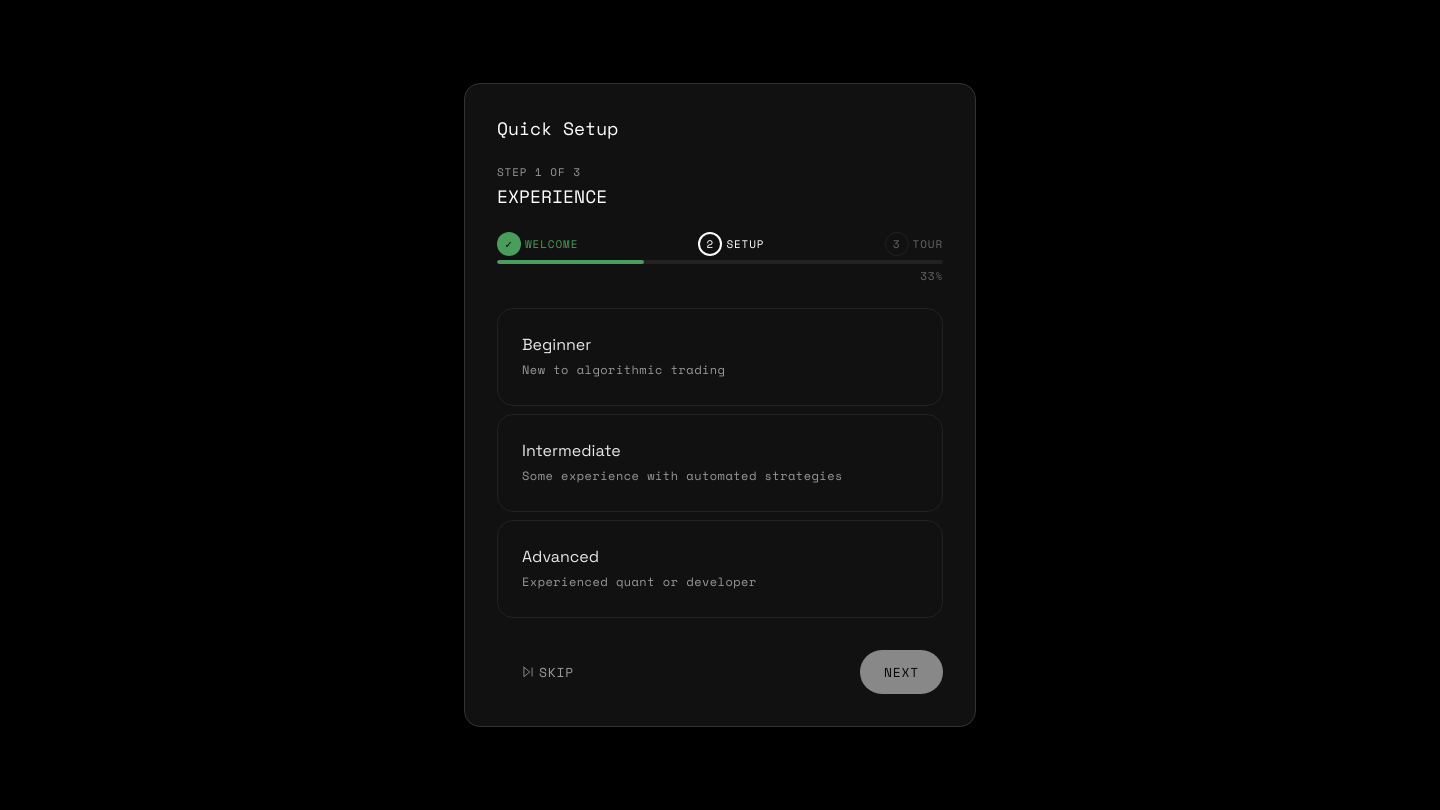
Test: SetupWizard › advances to risk profile step
This screenshot has width=1440, height=810.
Click the text "Beginner": (557, 344) [522,334,591,355]
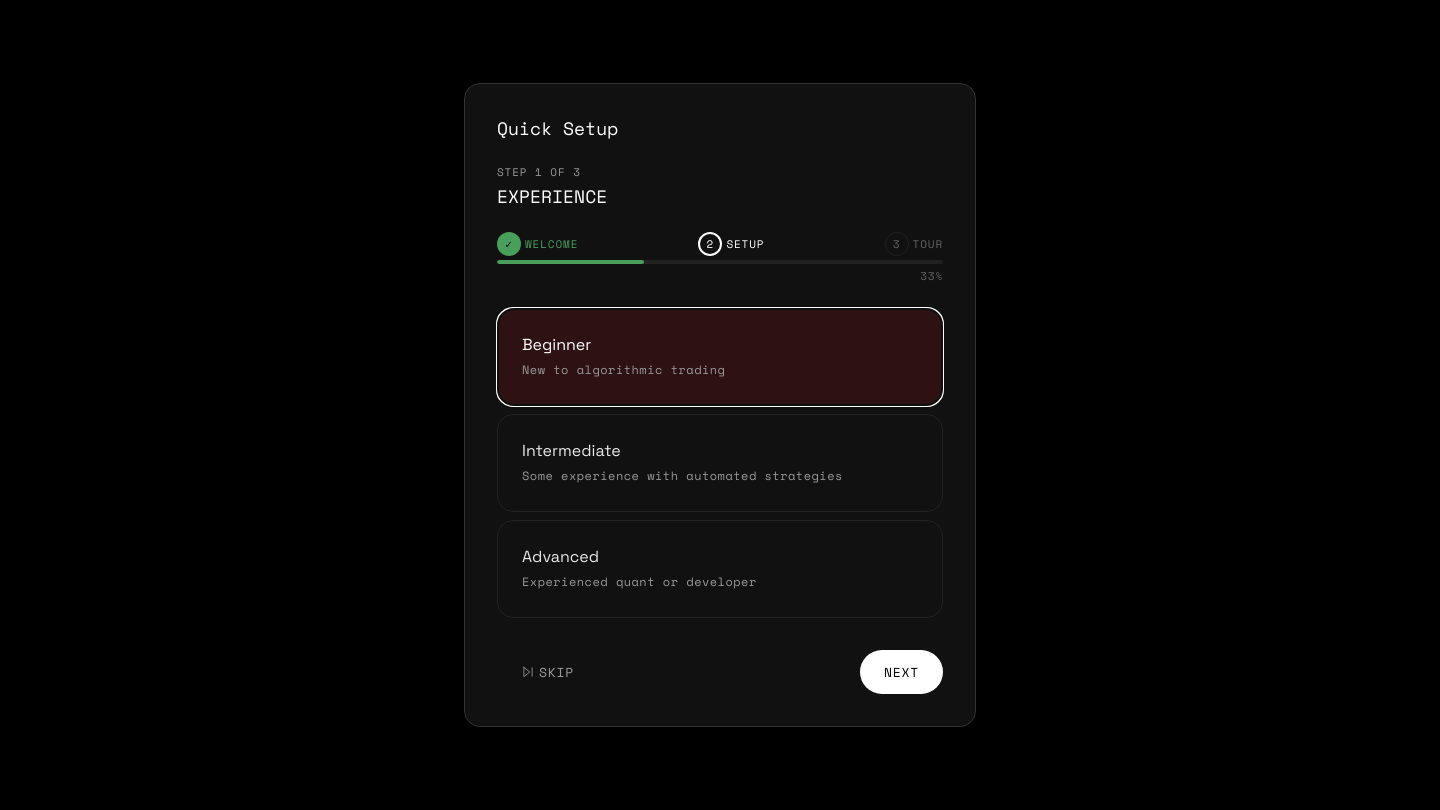
Click the button "NEXT": (902, 672) [860,650,943,694]
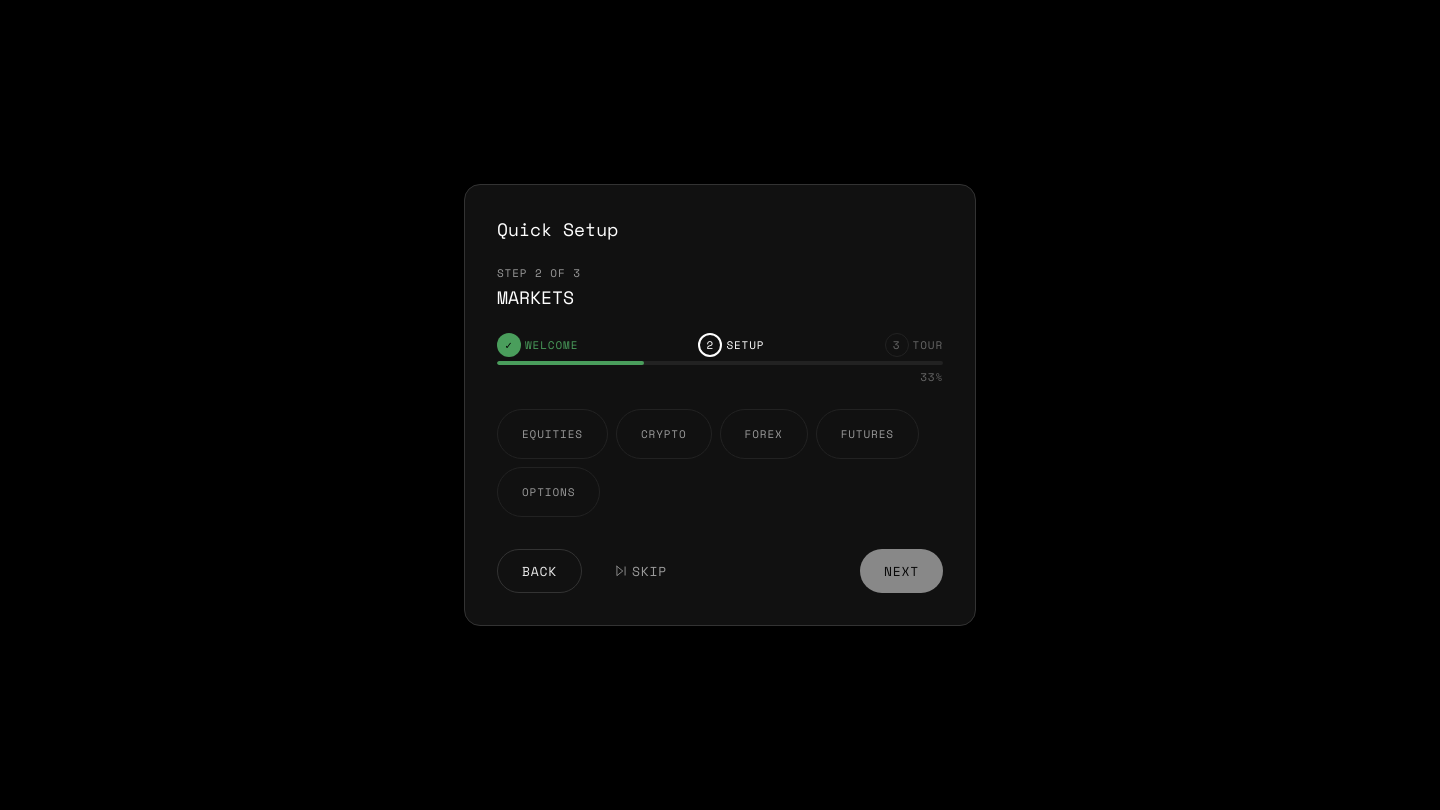
Click the button "Equities": (552, 434) [497,409,608,459]
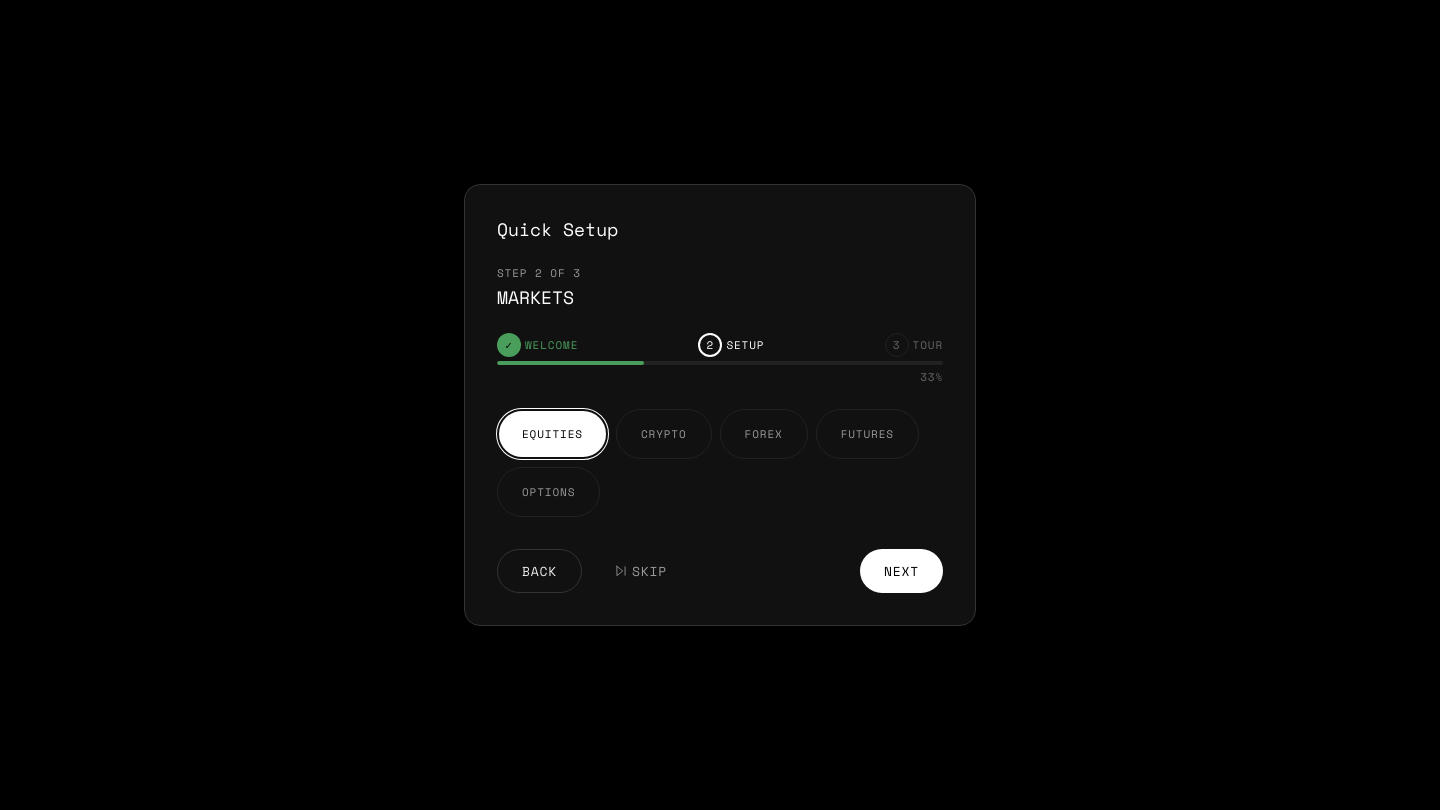
Click the button "NEXT": (902, 571) [860,549,943,593]
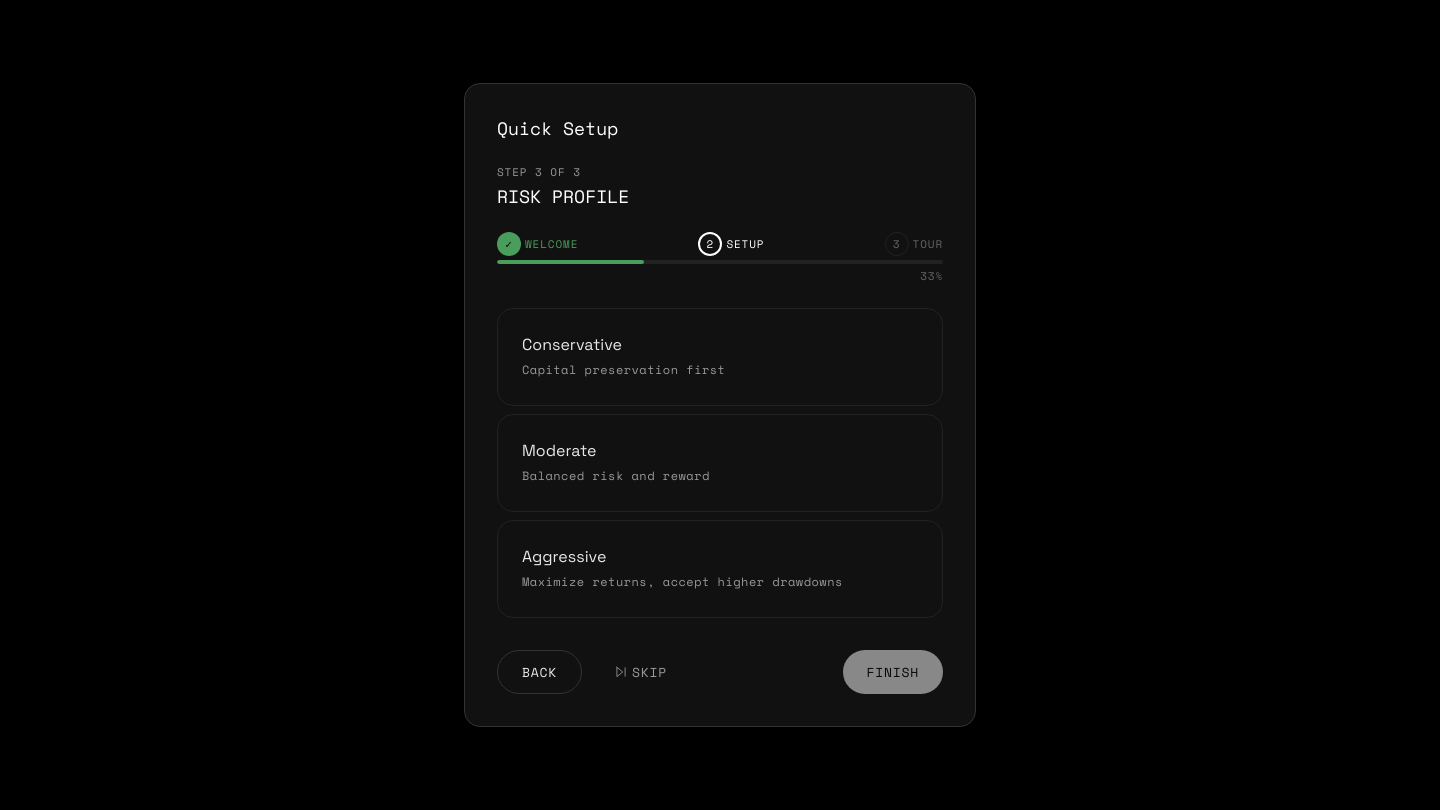
Result: the text "Conservative" is shown at [522,334,622,355]
Result: the text "Moderate" is shown at [522,440,596,461]
Result: the text "Aggressive" is shown at [522,546,606,567]
